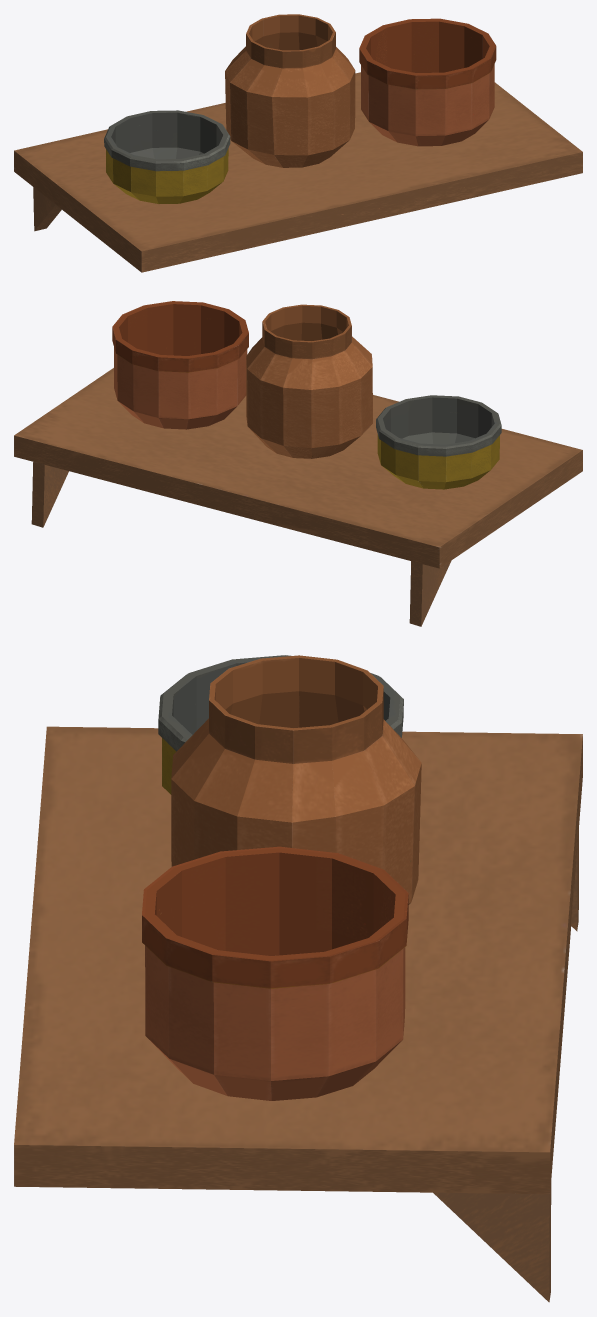
The model's file is repisa1.obj.
3 renders of one model, top to bottom at view 1: azimuth 30°, elevation 25°; view 2: azimuth 150°, elevation 25°; view 3: azimuth 270°, elevation 25°, orthographic. The views are drawn at different scales.
Visible parts, largest first — view 1: Cube.002, Cylinder, Cylinder.001, Cylinder.002, Plane.001; view 2: Cube.002, Cylinder, Cylinder.001, Cylinder.002, Plane.001, Plane; view 3: Cube.002, Cylinder.001, Cylinder, Plane, Cylinder.002.
Part boxes in pixels (x1,y1,x2,y2): Cube.002: (14, 72, 582, 272); Cylinder: (225, 14, 355, 167); Cylinder.001: (359, 18, 496, 146); Cylinder.002: (104, 110, 230, 203); Plane.001: (33, 187, 61, 231); Cube.002: (14, 368, 582, 568); Cylinder: (246, 304, 372, 458); Cylinder.001: (112, 301, 248, 429); Cylinder.002: (376, 395, 501, 489); Plane.001: (409, 560, 451, 626); Plane: (31, 462, 68, 527); Cube.002: (14, 726, 582, 1194); Cylinder.001: (142, 846, 408, 1100); Cylinder: (171, 655, 421, 904); Plane: (433, 1182, 551, 1302); Cylinder.002: (158, 655, 403, 794).
Size of the model in its own units: 2.03 by 0.9063 by 1.15.
1 material, 1 textured.
